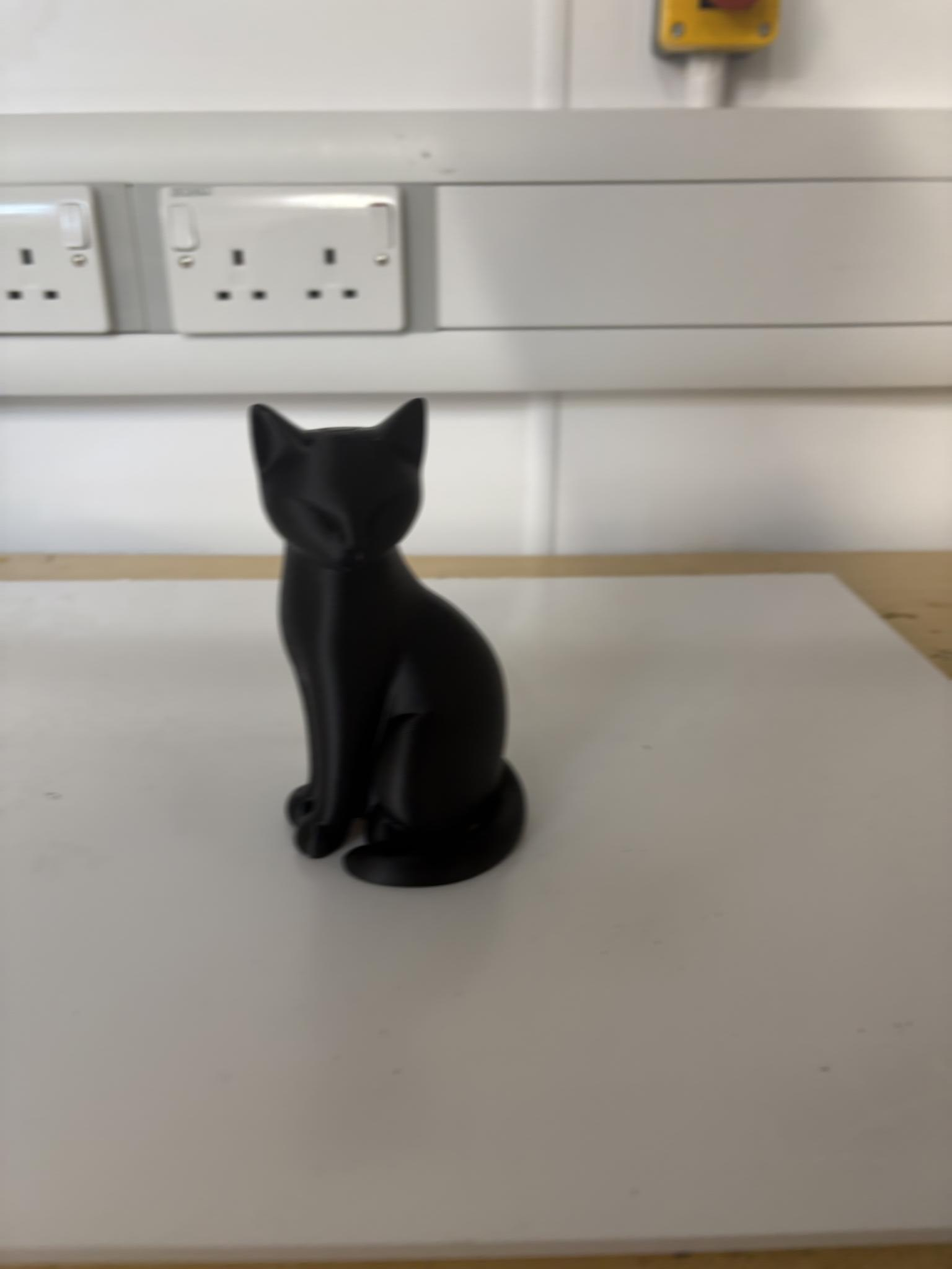cat: (249, 399, 525, 885)
